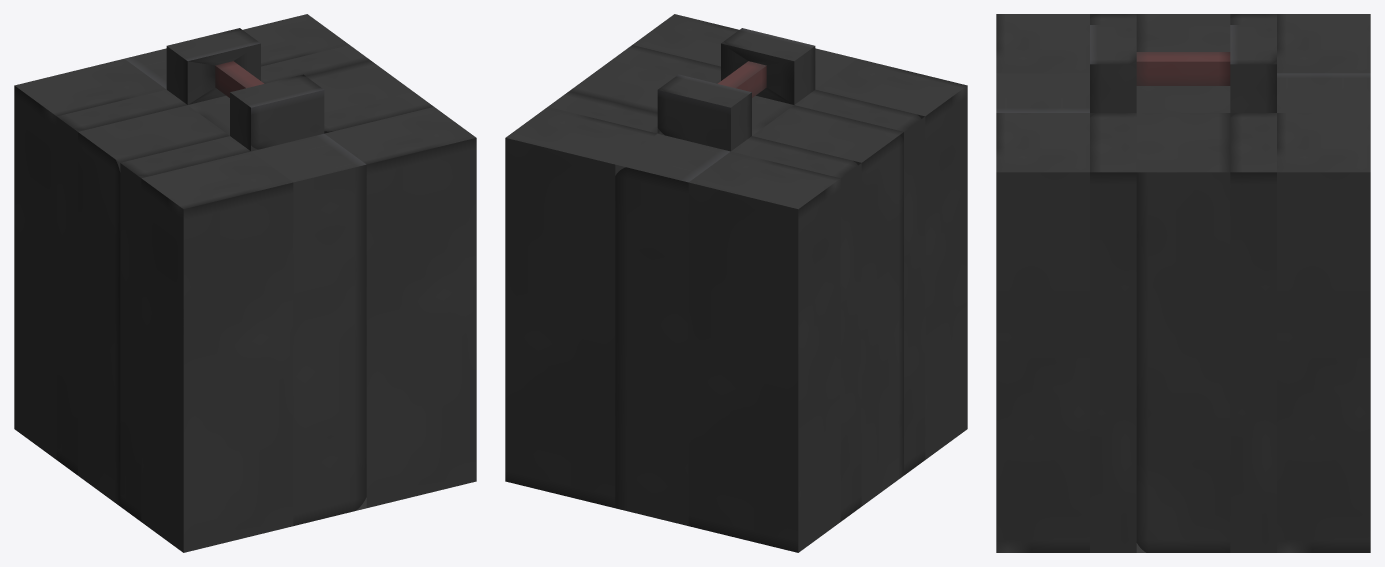
Rendered from piston.obj.
3 views of the same model, side by side, from view 1: azimuth 30°, elevation 25°; view 2: azimuth 150°, elevation 25°; view 3: azimuth 270°, elevation 25° (orthographic). The views are drawn at different scales.
Parts seen in each view (by area): view 1: main_piston_mainpiston; view 2: main_piston_mainpiston; view 3: main_piston_mainpiston.
Boxes of the visible parts, bbox=[...] form: main_piston_mainpiston: bbox=[14, 14, 476, 552]; main_piston_mainpiston: bbox=[505, 14, 967, 552]; main_piston_mainpiston: bbox=[996, 14, 1370, 552].
Size of the model in its own units: 0.8404 by 1.06 by 0.8404.
